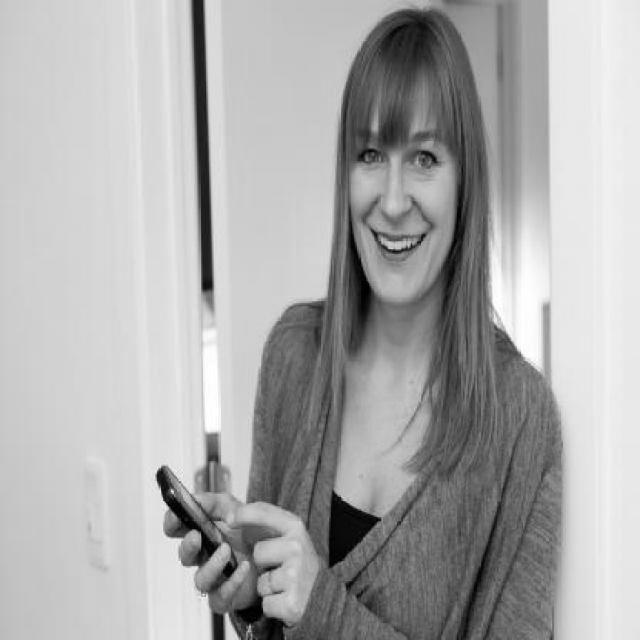fake: (158, 456, 268, 582)
real: (354, 126, 458, 306), (354, 139, 450, 177)
